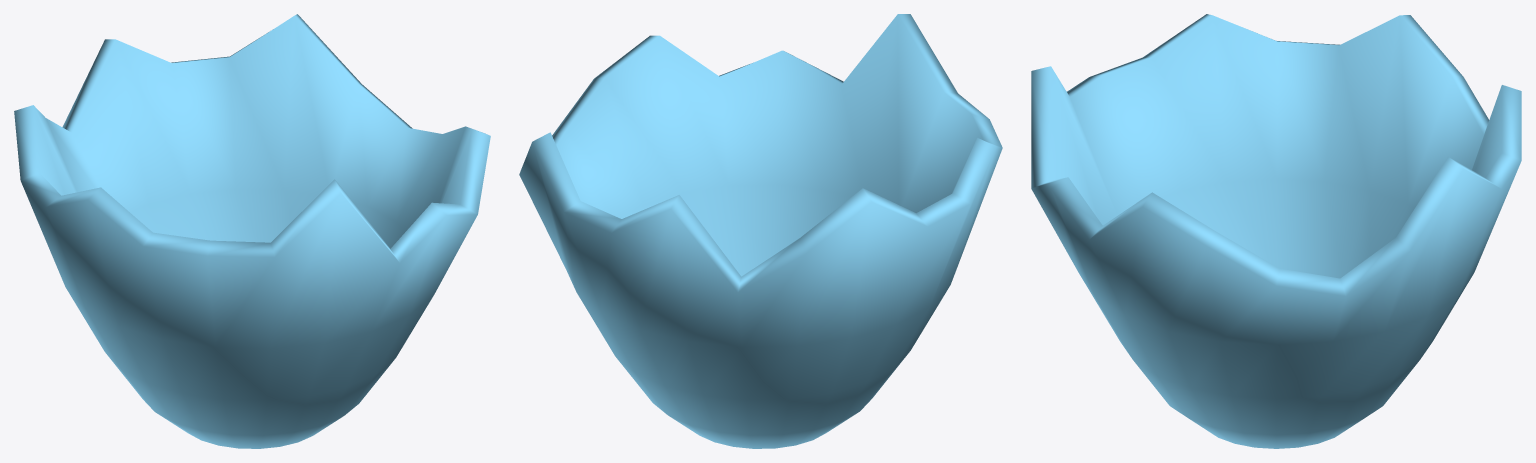
File: BrokenFlaskLower.fbx
The picture shows the model from 3 angles, left to right: view 1: azimuth 30°, elevation 25°; view 2: azimuth 150°, elevation 25°; view 3: azimuth 270°, elevation 25°; orthographic projection. The views are drawn at different scales.
Visible parts, largest first — view 1: BrokenFlaskLower; view 2: BrokenFlaskLower; view 3: BrokenFlaskLower.
Boxes of the visible parts, x1,y1,x2,y2 form: BrokenFlaskLower: [14, 14, 490, 448]; BrokenFlaskLower: [519, 14, 1002, 448]; BrokenFlaskLower: [1031, 14, 1521, 448].
Size of the model in its own units: 29.37 by 22.04 by 29.07.
